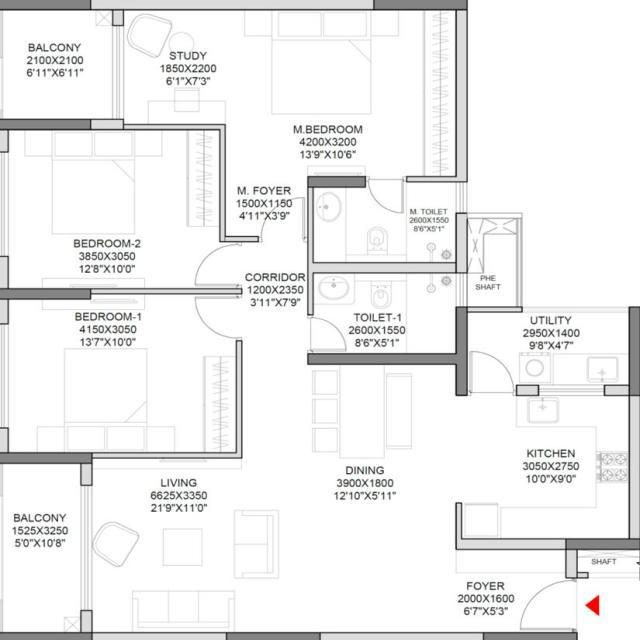Balcony-Sitout: (2, 460, 84, 635), (2, 9, 118, 127)
Bedroom: (7, 300, 236, 450), (10, 129, 220, 290)
Bedroom with Toilet: (224, 6, 465, 273)
Dining: (312, 364, 414, 462)
Enterance-Foyer: (495, 575, 602, 635)
Kitchen: (465, 394, 629, 538)
Living: (89, 459, 277, 632)
Toilet: (308, 177, 454, 261), (315, 274, 453, 353)
Utility: (465, 309, 632, 385)
